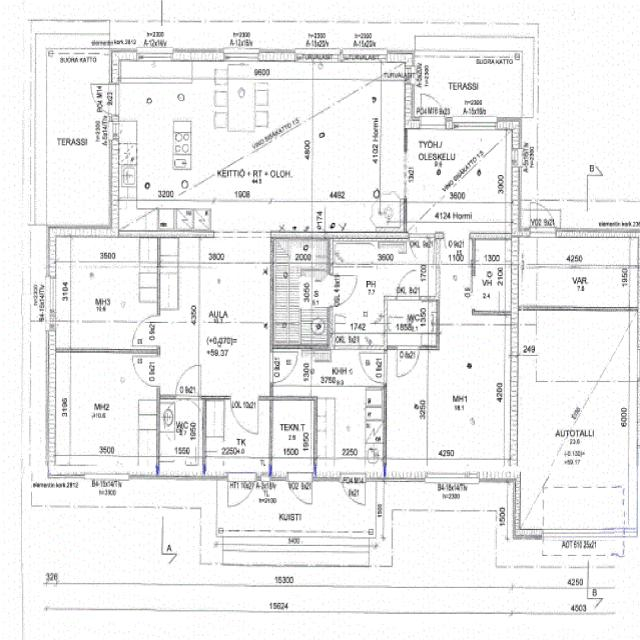door: (530, 197, 556, 238), (230, 394, 258, 432), (228, 473, 254, 513), (421, 88, 445, 130), (86, 85, 119, 115), (444, 232, 470, 268), (270, 352, 299, 384), (341, 473, 365, 511), (288, 473, 312, 511), (329, 276, 358, 306), (132, 356, 160, 387), (359, 353, 387, 384), (410, 232, 434, 268), (132, 316, 160, 346), (176, 364, 200, 399), (397, 345, 420, 378), (335, 316, 358, 349), (397, 268, 420, 300)
